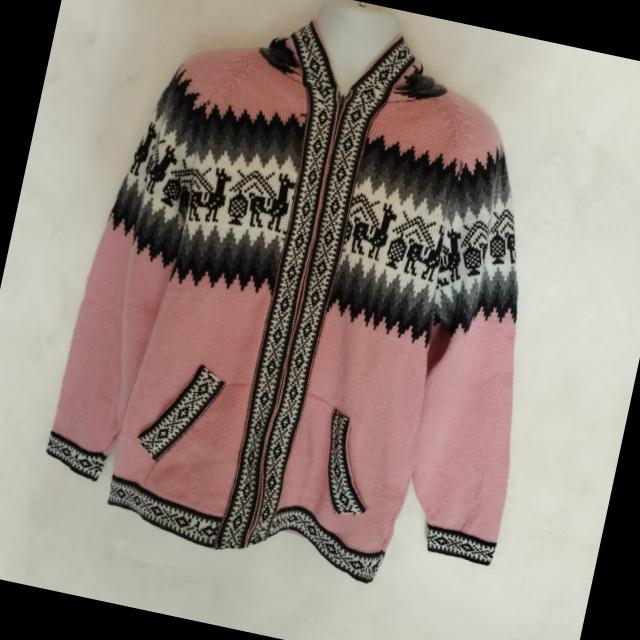Chompa: (31, 0, 596, 608)
